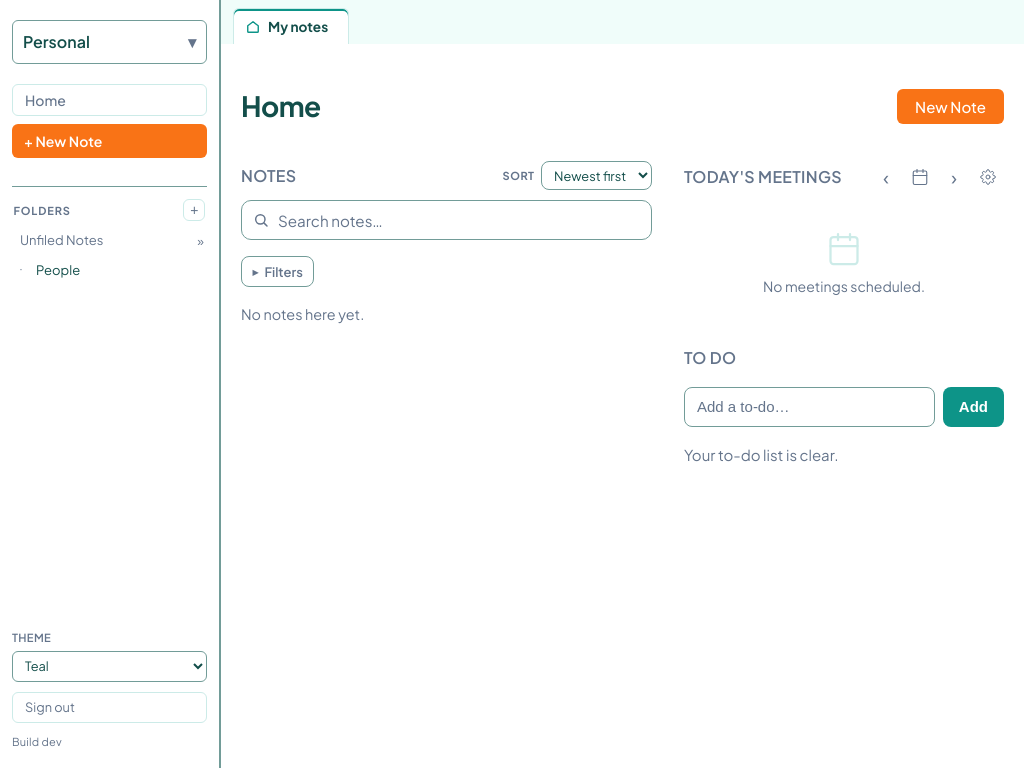
Test: FolderNavigation › clicking Home after a folder returns the Home heading
Step 1. Click the button "People" → (120, 270), box [32, 259, 207, 281]
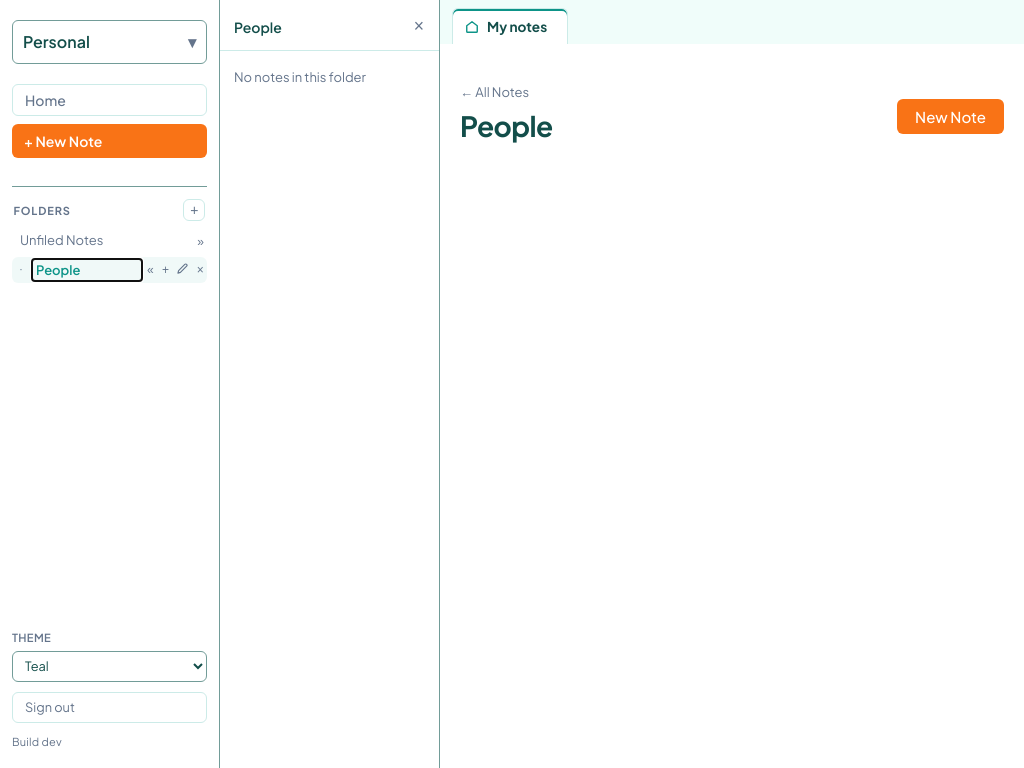
Step 2. Click the button with test id "home-button" → (110, 100), box [12, 84, 207, 116]
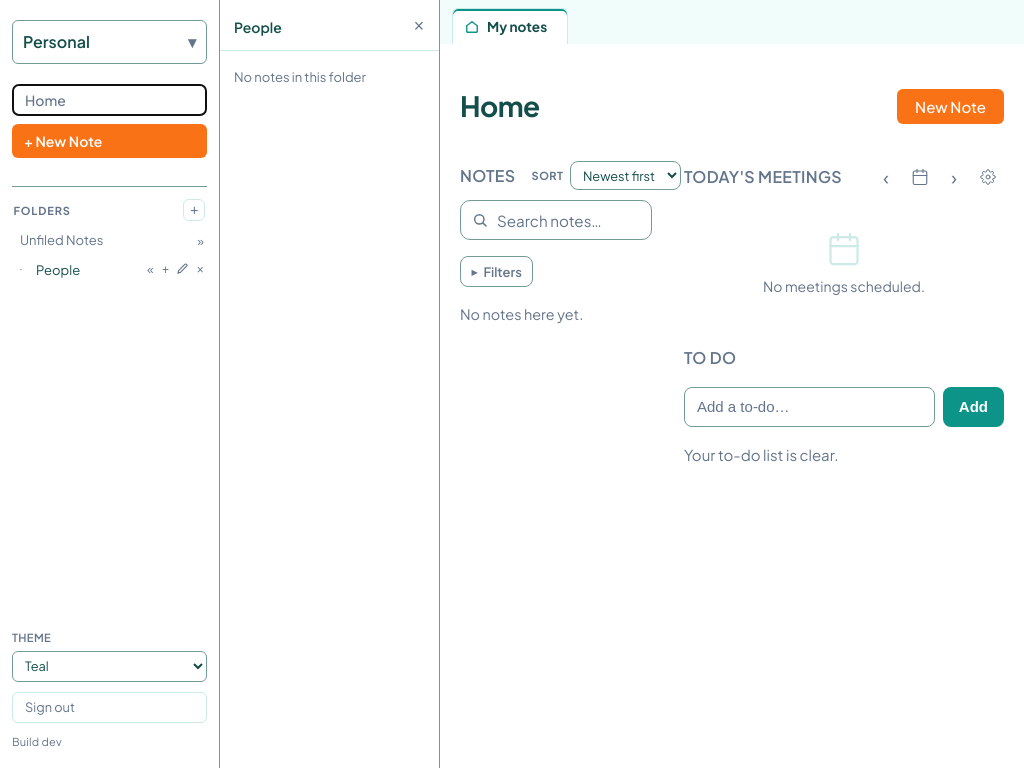
Expected: the heading "Home" is shown, [460, 84, 540, 129]
